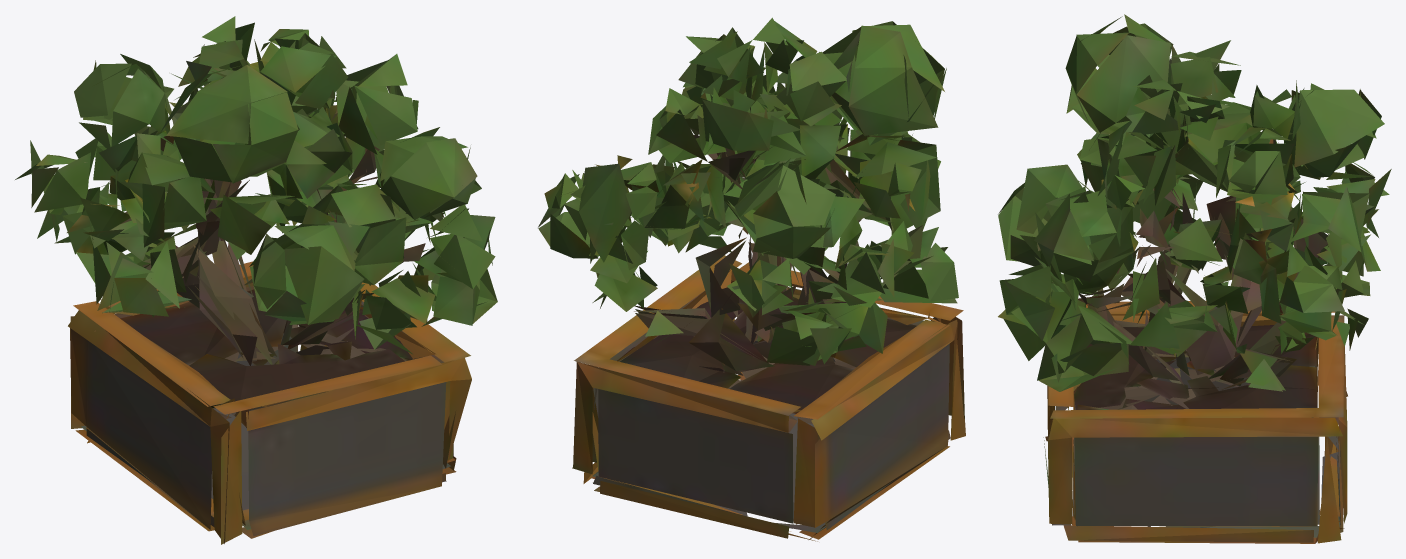
File: plante-b-bas.glb
The picture shows the model from 3 angles, left to right: view 1: azimuth 30°, elevation 25°; view 2: azimuth 150°, elevation 25°; view 3: azimuth 270°, elevation 25°; orthographic projection. The views are drawn at different scales.
Parts seen in each view (by area): view 1: plante-b-bas; view 2: plante-b-bas; view 3: plante-b-bas.
Part boxes in pixels (<box>): plante-b-bas: <box>15,16,497,544</box>; plante-b-bas: <box>538,17,965,541</box>; plante-b-bas: <box>998,14,1391,543</box>.
Bounding box in the file's own units: 1.21 × 1.4 × 1.17.
1 material, 1 textured.
